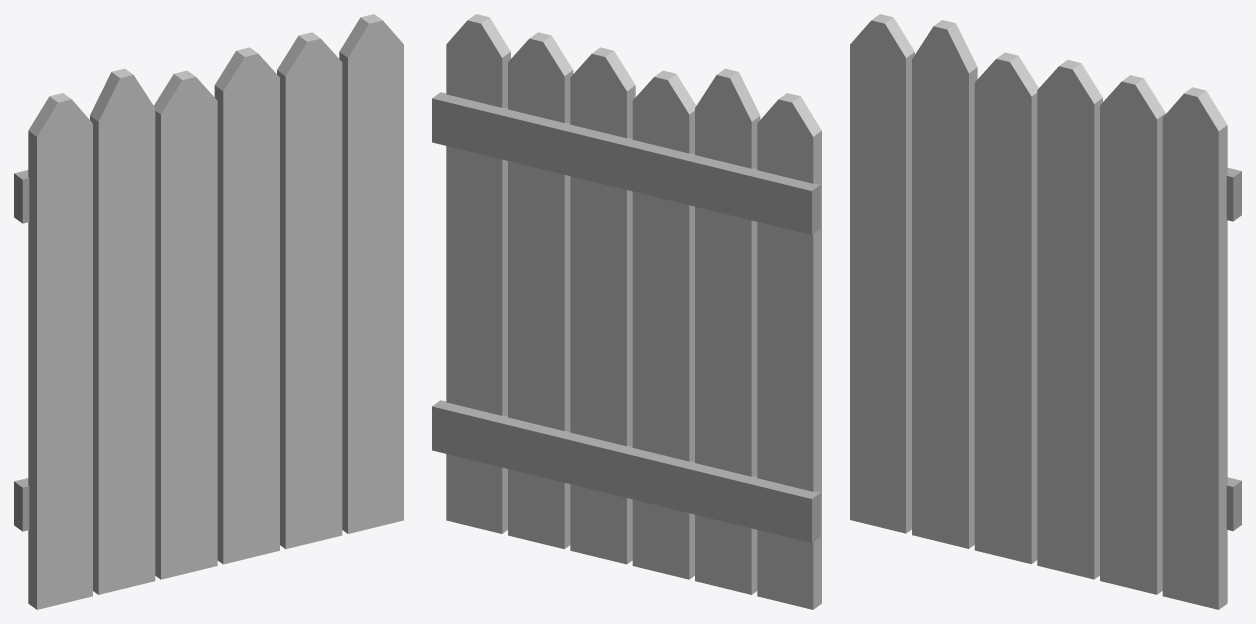
Rendered from Fence_04.fbx.
3 views of the same model, side by side, from view 1: azimuth 30°, elevation 25°; view 2: azimuth 150°, elevation 25°; view 3: azimuth 330°, elevation 25° (orthographic).
Parts seen in each view (by area): view 1: Fence_04; view 2: Fence_04; view 3: Fence_04.
Part boxes in pixels (bbox=[...]): Fence_04: bbox=[14, 14, 403, 609]; Fence_04: bbox=[432, 14, 821, 609]; Fence_04: bbox=[850, 14, 1241, 609].
Size of the model in its own units: 102 by 131 by 7.66.
